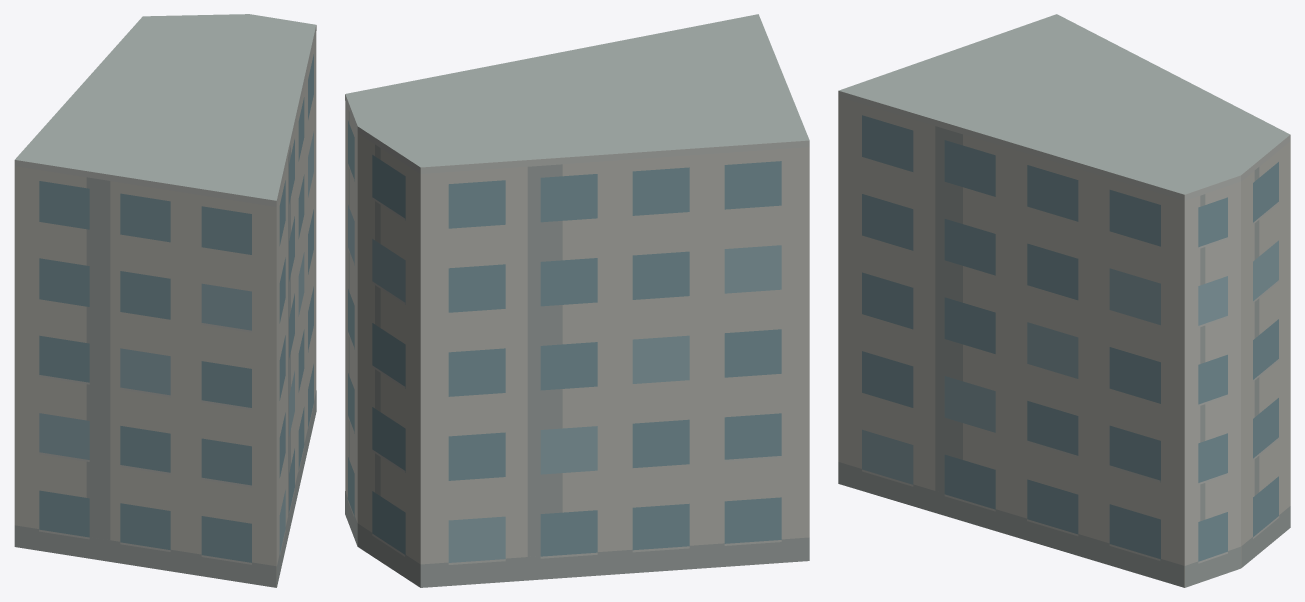
File: survey-upis-32573406.glb
3 renders of one model, left to right at view 1: azimuth 30°, elevation 25°; view 2: azimuth 150°, elevation 25°; view 3: azimuth 270°, elevation 25°, orthographic. The views are drawn at different scales.
Parts seen in each view (by area): view 1: survey-upis-32573406.tmp; view 2: survey-upis-32573406.tmp; view 3: survey-upis-32573406.tmp.
Part boxes in pixels (x1,y1,x2,y2): survey-upis-32573406.tmp: [14, 14, 316, 587]; survey-upis-32573406.tmp: [345, 14, 809, 587]; survey-upis-32573406.tmp: [838, 14, 1290, 587].
Size of the model in its own units: 15.05 by 15.25 by 15.9.
